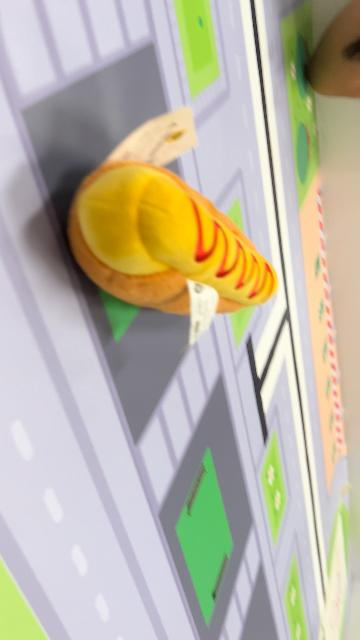hotdog: (68, 158, 280, 316)
